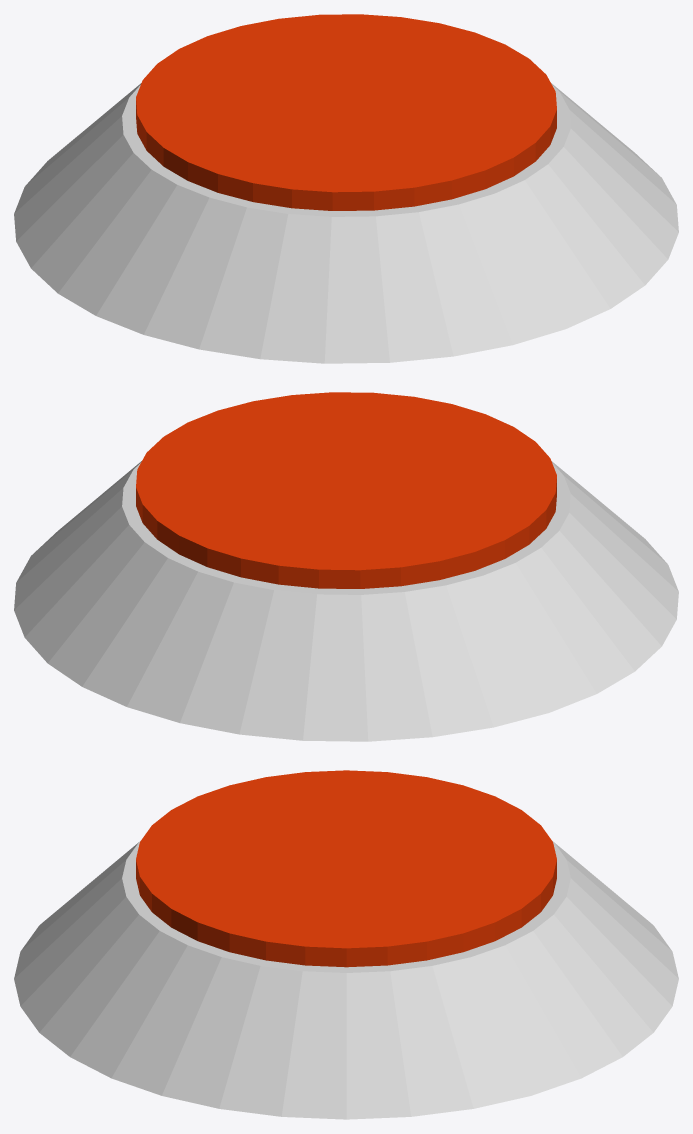
The model's file is buttonCall.glb.
The picture shows the model from 3 angles, top to bottom: view 1: azimuth 30°, elevation 25°; view 2: azimuth 150°, elevation 25°; view 3: azimuth 270°, elevation 25°; orthographic projection.
Parts seen in each view (by area): view 1: Cylinder, Cylinder.001; view 2: Cylinder, Cylinder.001; view 3: Cylinder, Cylinder.001.
Boxes of the visible parts, x1,y1,x2,y2 form: Cylinder: (14, 83, 678, 363); Cylinder.001: (136, 14, 556, 210); Cylinder: (14, 461, 678, 741); Cylinder.001: (136, 392, 556, 588); Cylinder: (14, 841, 678, 1119); Cylinder.001: (136, 770, 556, 967).
Size of the model in its own units: 3 by 0.596 by 3.
